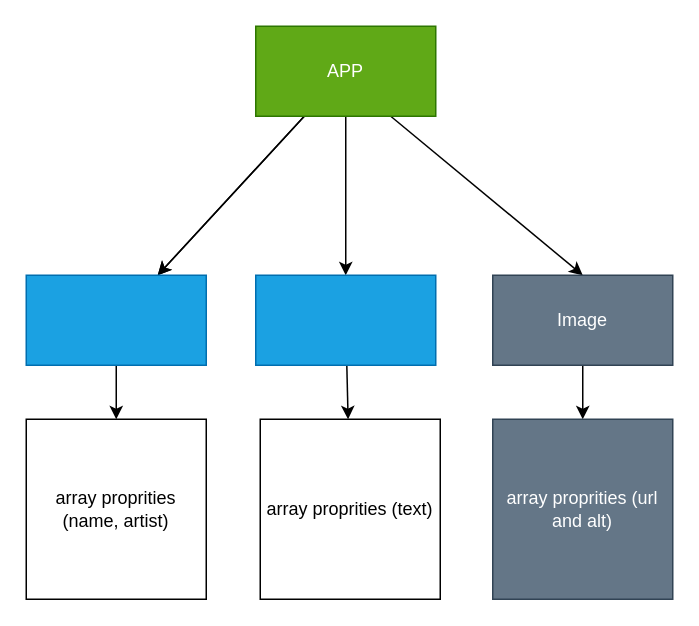
Some shapes in this 699 by 626 pixel diagram are drawn without their labels. The centre of each missing label's shape, as x and y in pixels:
More and Less: point 345,319
Next: point 115,319
